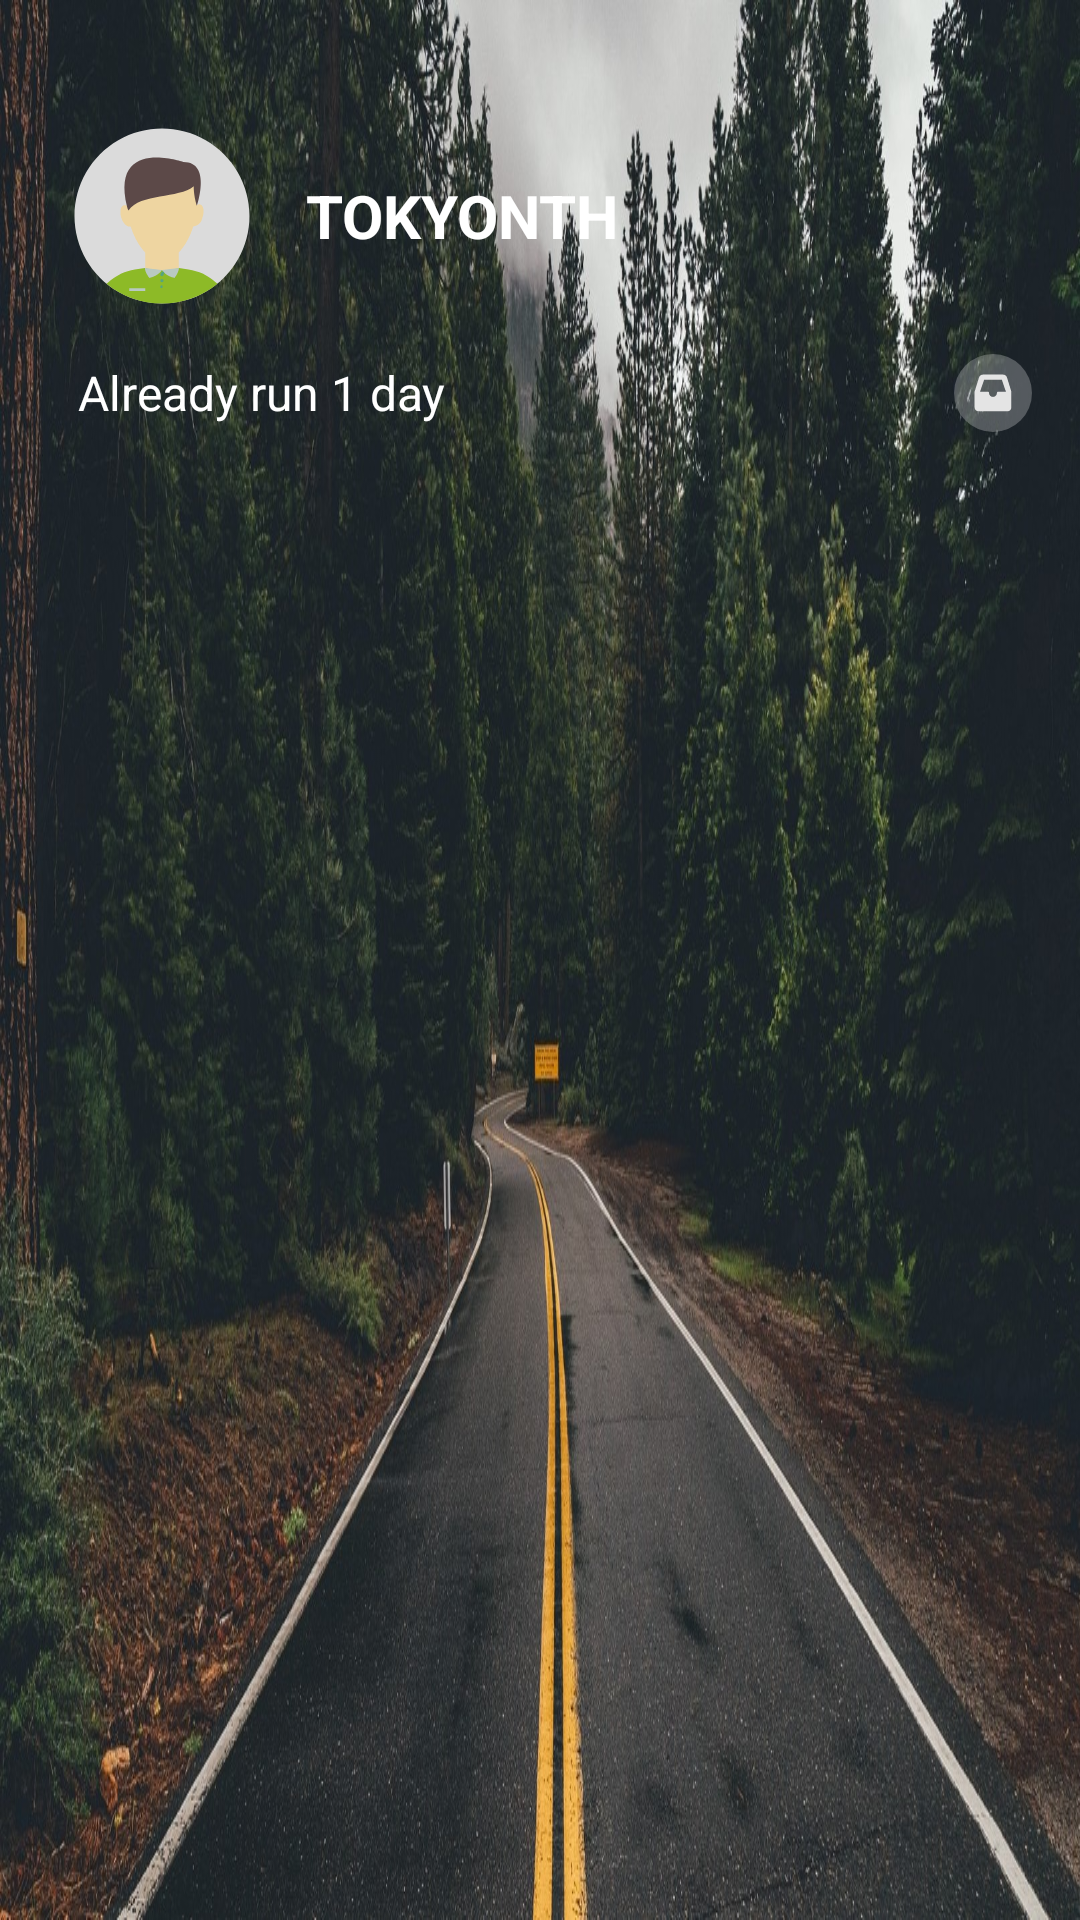

Where icons sit on this 1080px×1920px app screen, as box(x1, y1, x2, y2):
inbox: box(954, 354, 1032, 432)
